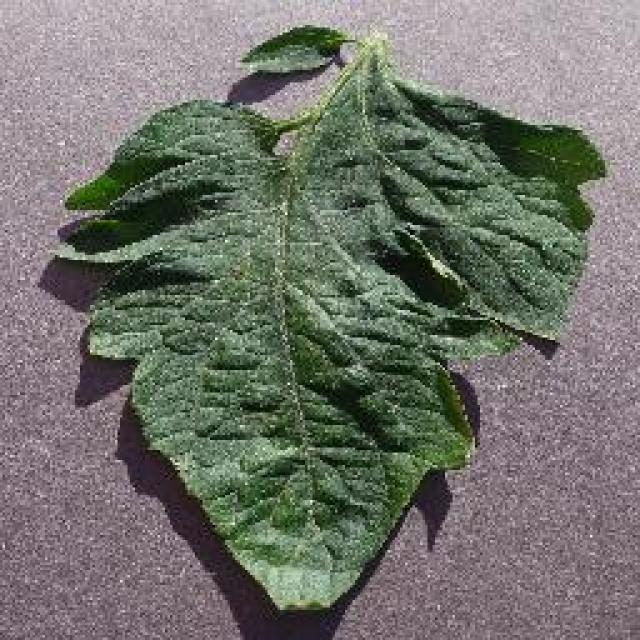Tomato___Target_Spot: (62, 38, 602, 608), (242, 25, 348, 75)
